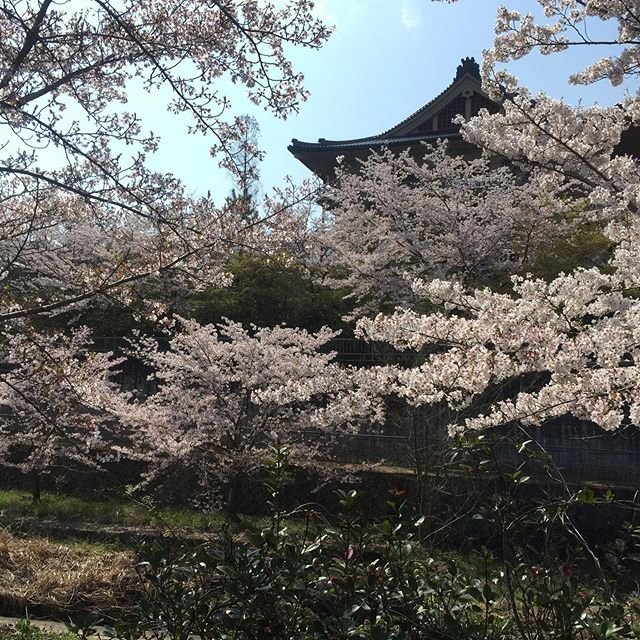building: (307, 51, 628, 190)
tree: (47, 408, 640, 640), (1, 1, 336, 314), (380, 105, 640, 436), (130, 324, 363, 546)
